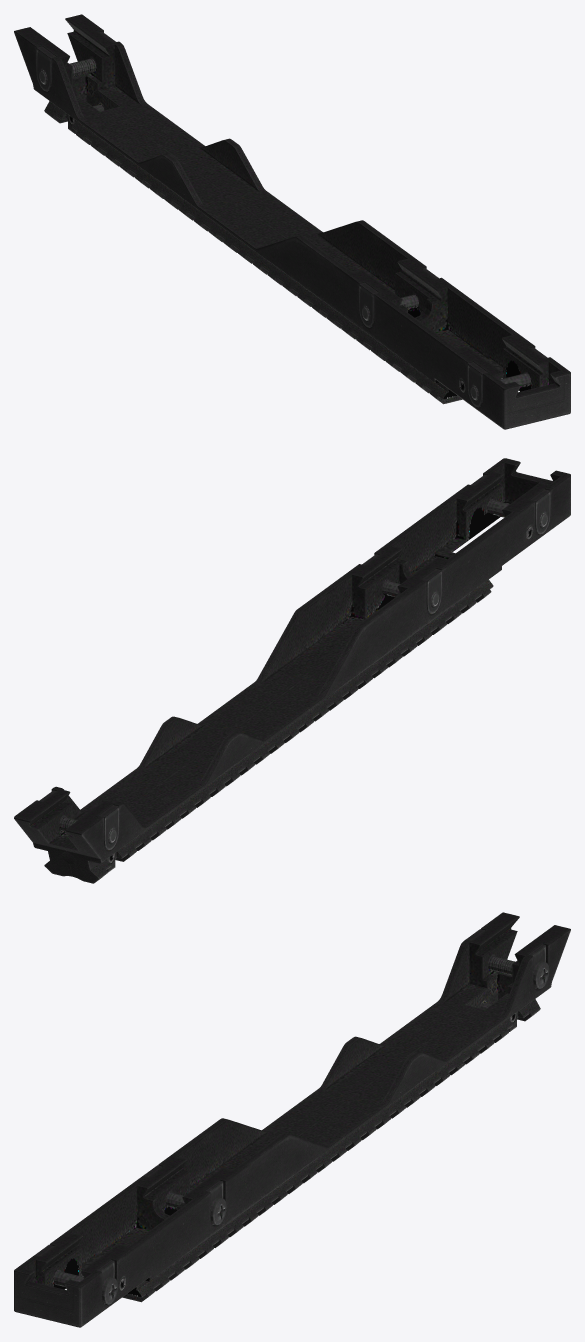
The picture shows the model from 3 angles, top to bottom: view 1: azimuth 30°, elevation 25°; view 2: azimuth 150°, elevation 25°; view 3: azimuth 330°, elevation 25°; orthographic projection.
Parts seen in each view (by area): view 1: TW_622b3c081b89c677a33bcda6_PZ_Import; view 2: TW_622b3c081b89c677a33bcda6_PZ_Import; view 3: TW_622b3c081b89c677a33bcda6_PZ_Import.
Part boxes in pixels (x1,y1,x2,y2): TW_622b3c081b89c677a33bcda6_PZ_Import: [14, 14, 570, 429]; TW_622b3c081b89c677a33bcda6_PZ_Import: [14, 458, 570, 883]; TW_622b3c081b89c677a33bcda6_PZ_Import: [14, 912, 570, 1327].
Size of the model in its own units: 0.0165 by 0.1922 by 0.0157.
Materials: 1 (1 with a texture image).
